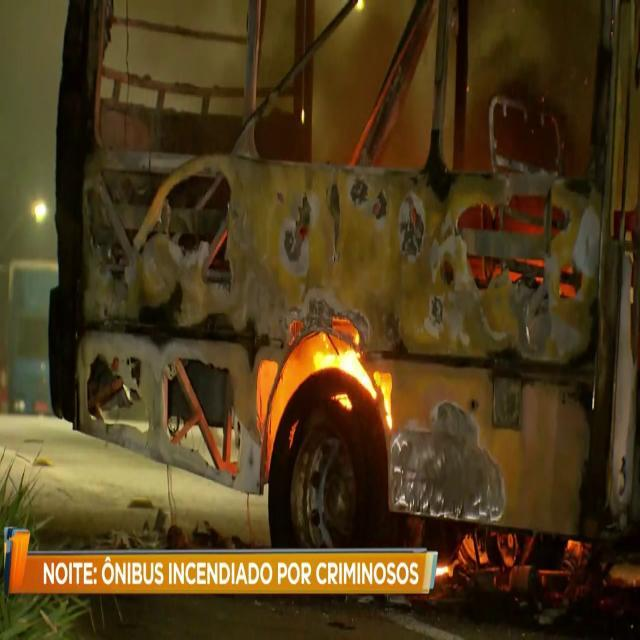Fire: (266, 323, 394, 431)
